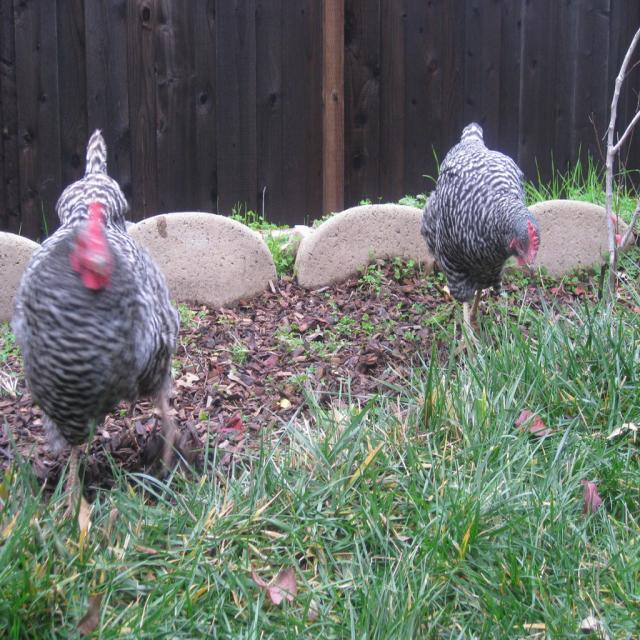Chicken: (14, 130, 178, 525), (421, 122, 540, 363)
